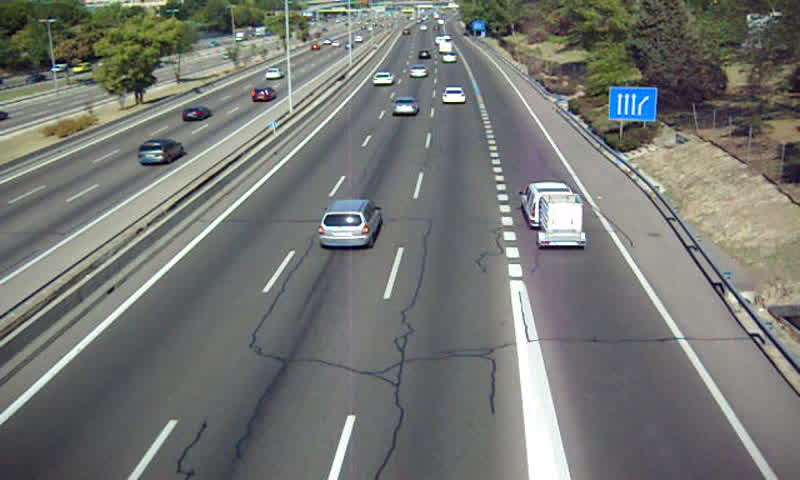car: (317, 199, 381, 249), (391, 96, 420, 116), (442, 87, 466, 105), (373, 71, 394, 87), (407, 64, 429, 79), (442, 52, 458, 63)
van: (520, 184, 574, 228)
